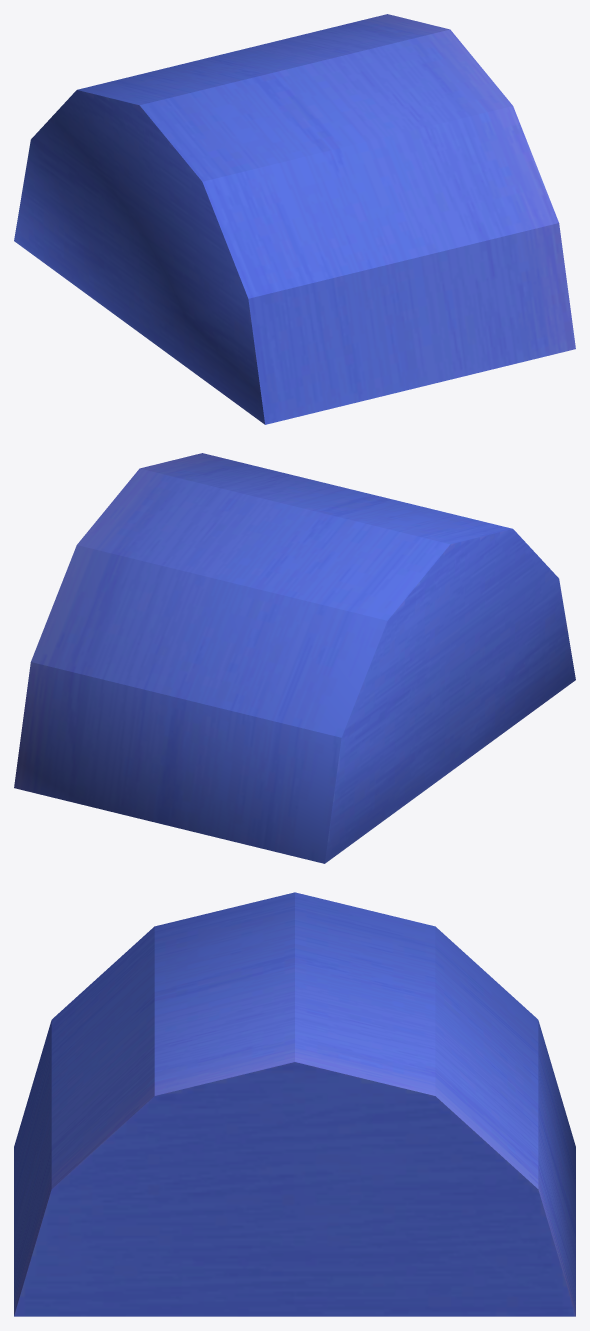
Rendered from SemiCircleBlock_Blue.fbx.
3 renders of one model, top to bottom at view 1: azimuth 30°, elevation 25°; view 2: azimuth 150°, elevation 25°; view 3: azimuth 270°, elevation 25°, orthographic. The views are drawn at different scales.
Visible parts, largest first — view 1: Cylinder.002; view 2: Cylinder.002; view 3: Cylinder.002.
Part boxes in pixels (box(x1,y1,x2,y2)): Cylinder.002: box(14, 14, 575, 424); Cylinder.002: box(14, 453, 575, 863); Cylinder.002: box(14, 892, 575, 1316).
Bounding box in the file's own units: 100 × 70 × 140.
